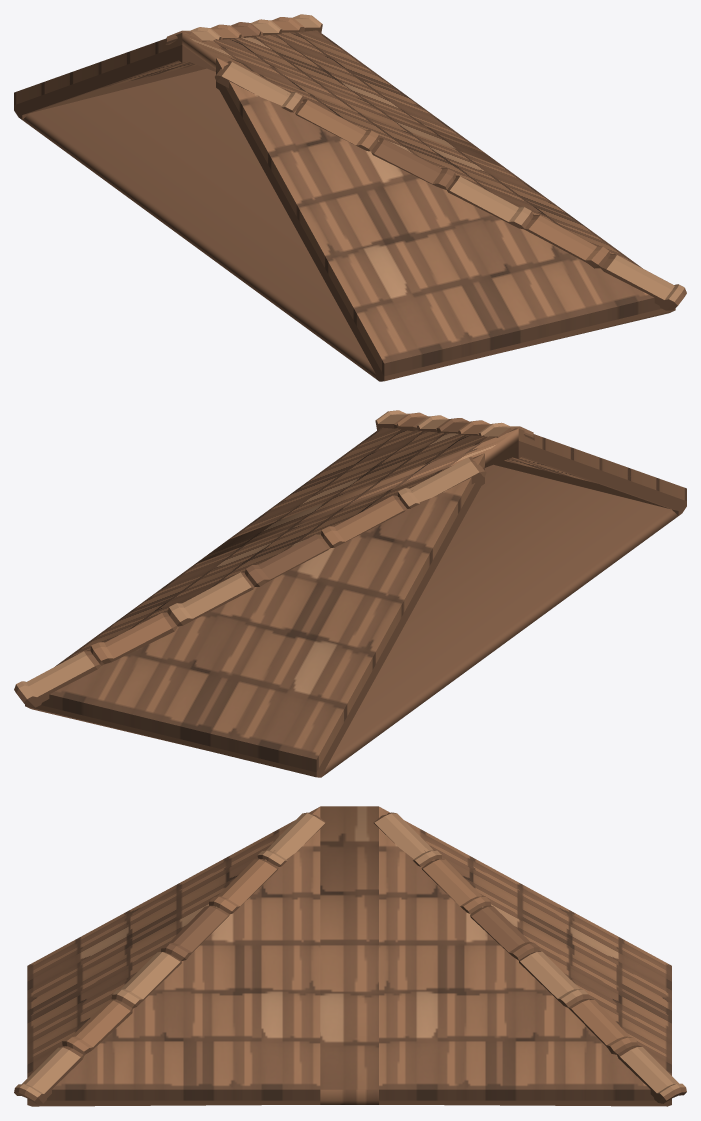
Rendered from SM_Bld_Villa_Roof_Corner_Out_01_edit.fbx.
3 renders of one model, top to bottom at view 1: azimuth 30°, elevation 25°; view 2: azimuth 150°, elevation 25°; view 3: azimuth 270°, elevation 25°, orthographic. The views are drawn at different scales.
Visible parts, largest first — view 1: SM_Bld_Villa_Roof_Corner_Out_01.001; view 2: SM_Bld_Villa_Roof_Corner_Out_01.001; view 3: SM_Bld_Villa_Roof_Corner_Out_01.001.
Part boxes in pixels (x1=…): SM_Bld_Villa_Roof_Corner_Out_01.001: x1=14, y1=14, x2=686, y2=381; SM_Bld_Villa_Roof_Corner_Out_01.001: x1=14, y1=410, x2=686, y2=777; SM_Bld_Villa_Roof_Corner_Out_01.001: x1=14, y1=806, x2=686, y2=1106.
Bounding box in the file's own units: 270 × 168 × 574.
